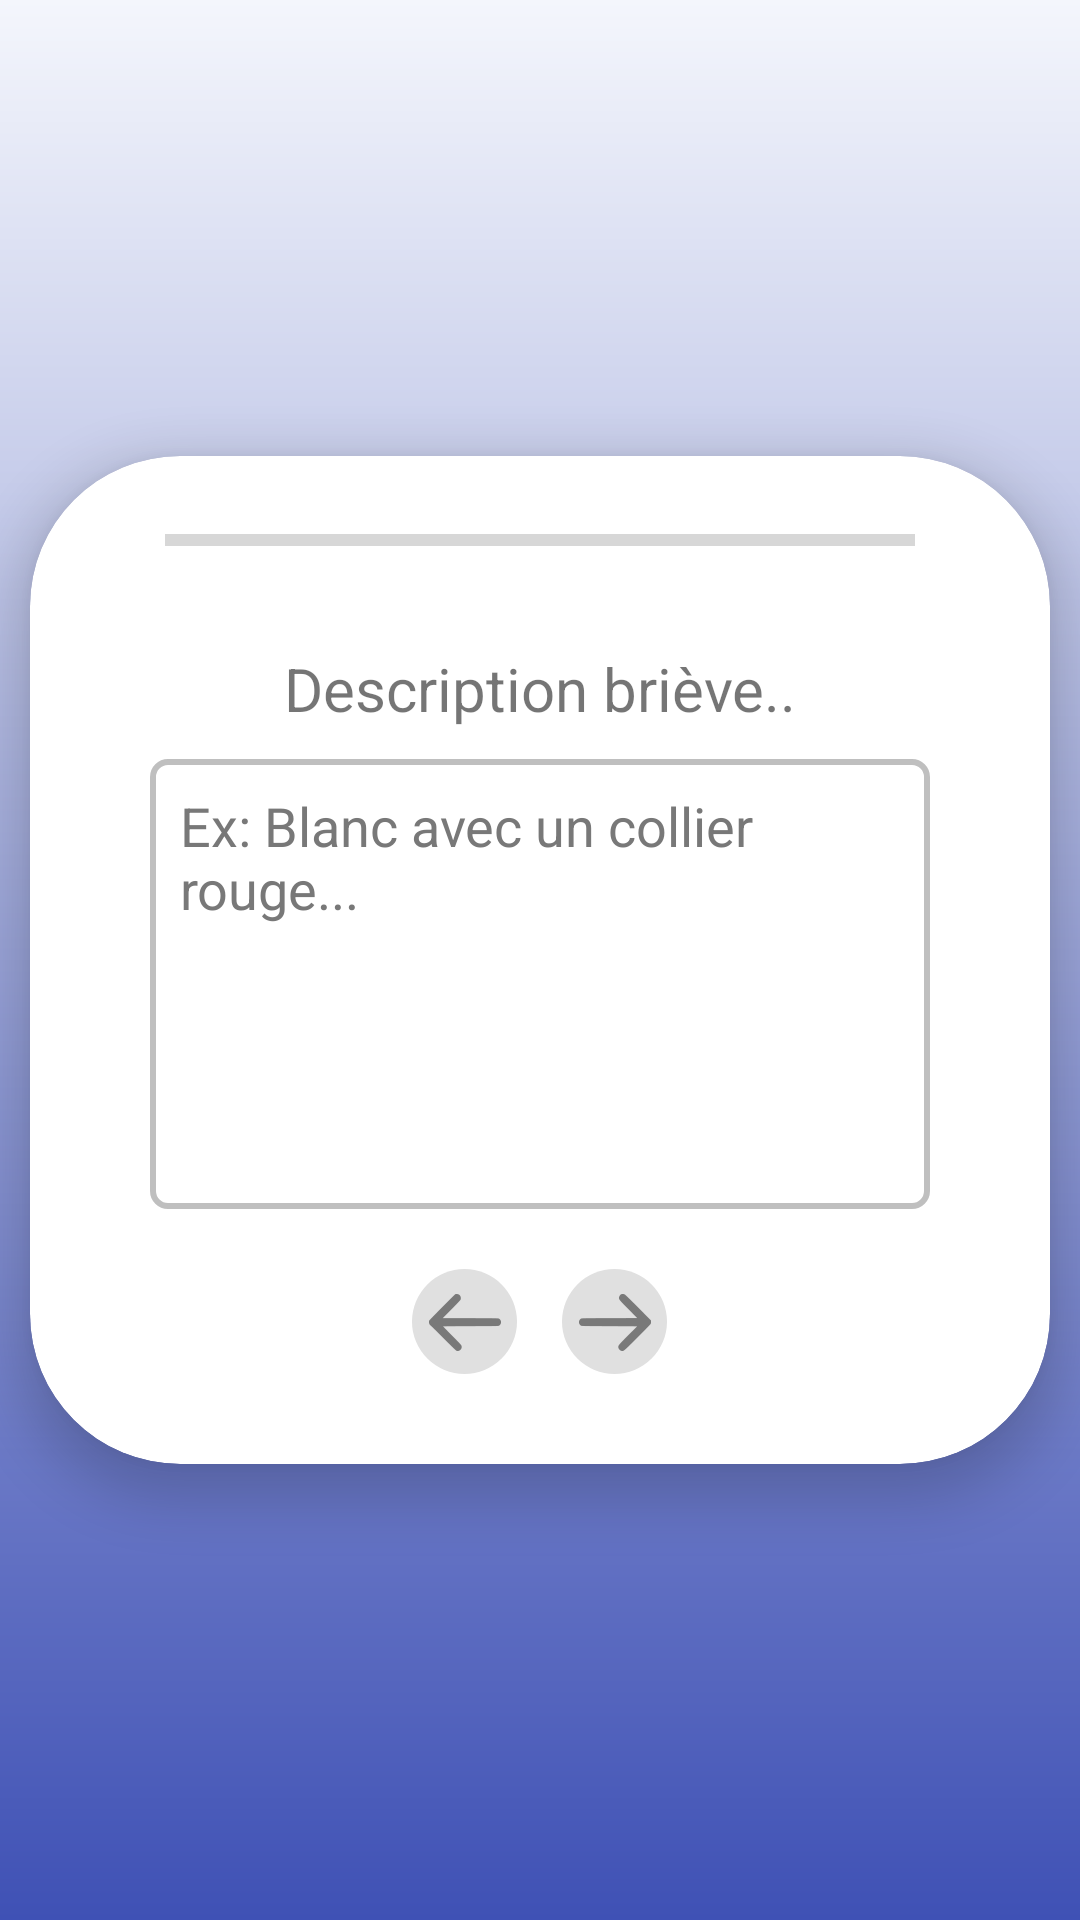

Where to tap for icons on this 1080×1920 app screen, as point (x, y):
arrows left: point (464, 1321)
arrows right: point (614, 1321)
